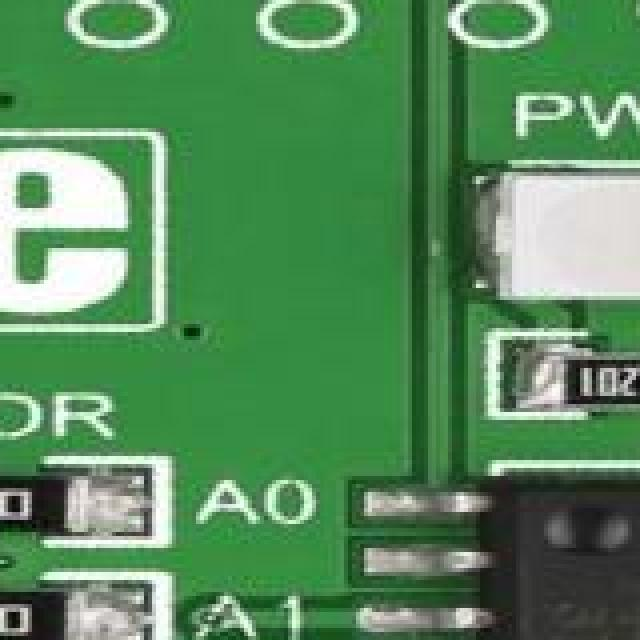IC: (404, 468, 640, 640)
LED: (496, 172, 640, 312)
resistor: (544, 336, 640, 412), (0, 472, 112, 536), (0, 596, 132, 640)
